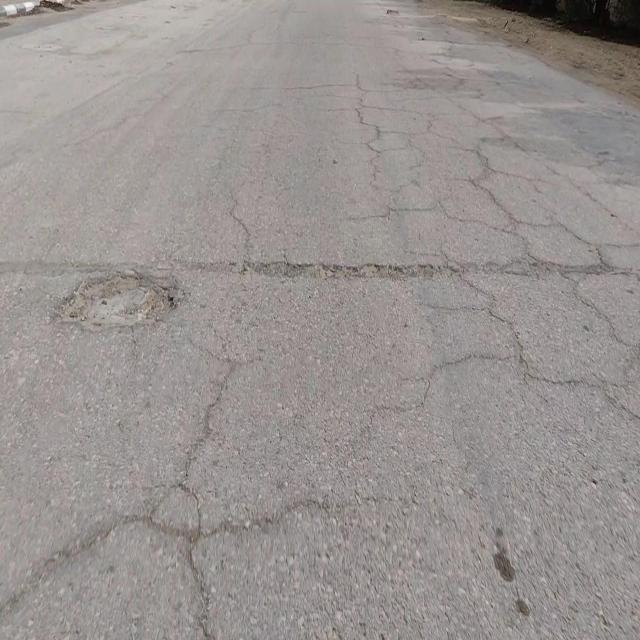Potholes: (51, 270, 181, 333)
